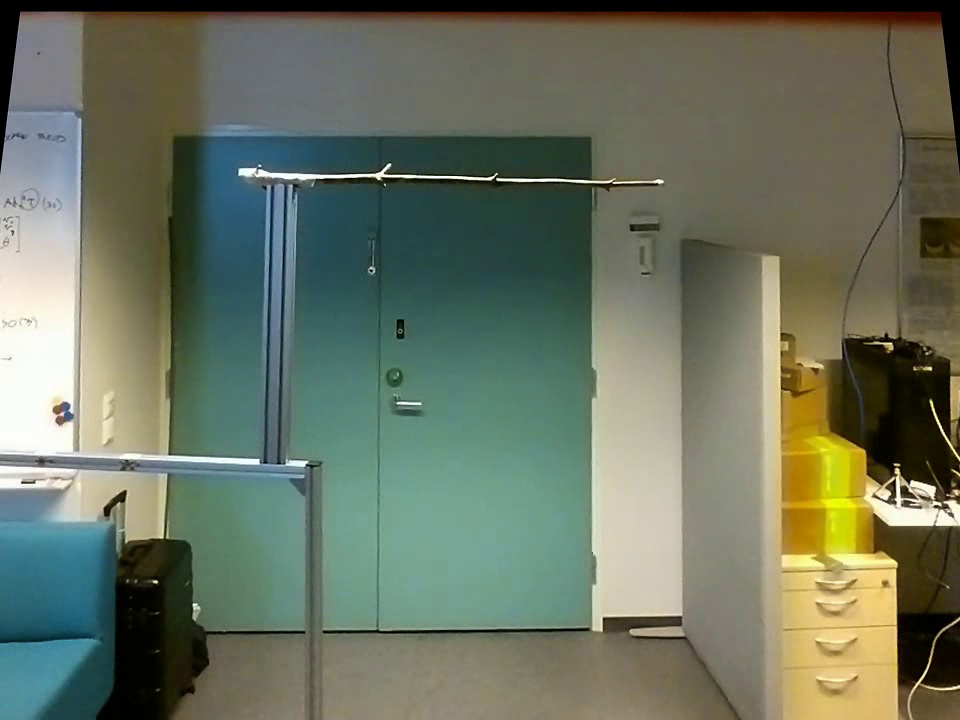aluminum_frame: (3, 444, 304, 482), (255, 182, 295, 457), (298, 455, 329, 713), (70, 109, 89, 476), (1, 104, 90, 120)
branch: (322, 157, 651, 199)
